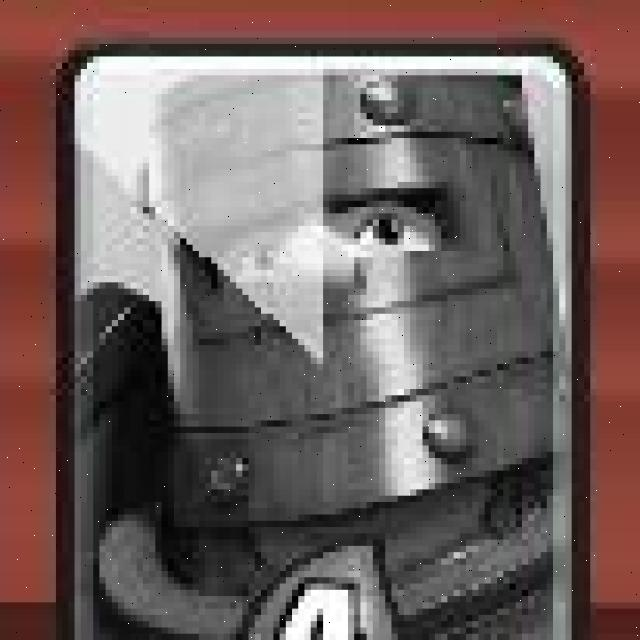Dark_Prince: (55, 36, 592, 640)
